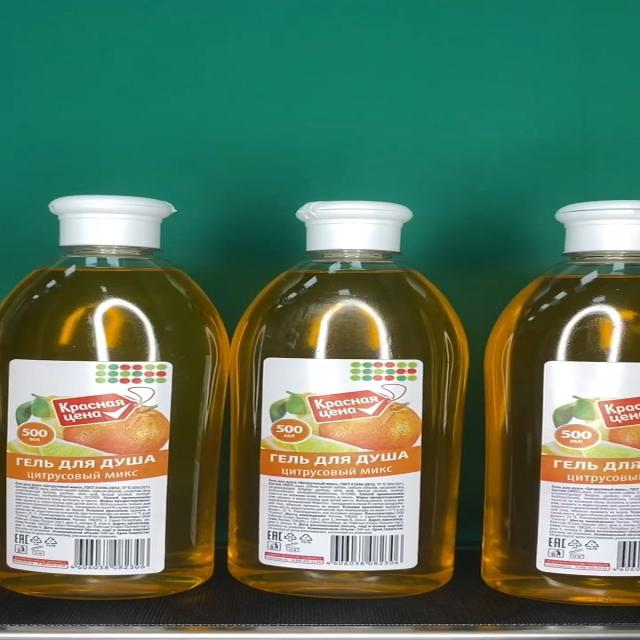Bottle: (230, 202, 469, 599), (0, 196, 230, 601)
Cap: (49, 196, 176, 249), (294, 202, 413, 252)
